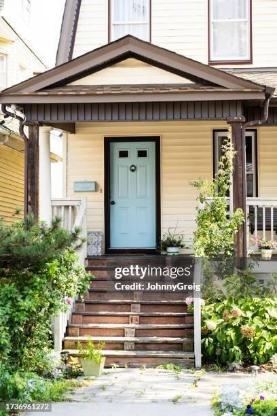door: (97, 129, 169, 266)
stair: (58, 247, 201, 375)
